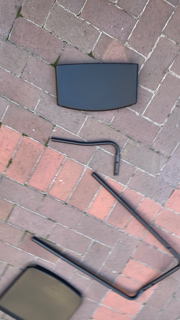Back: (56, 62, 141, 114)
L pipe: (50, 137, 122, 179)
U pipe: (30, 170, 180, 303)
